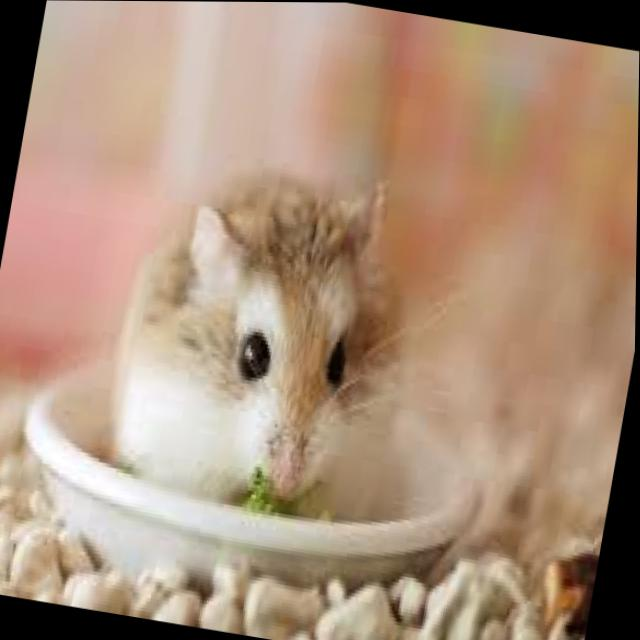person: (70, 98, 494, 587)
